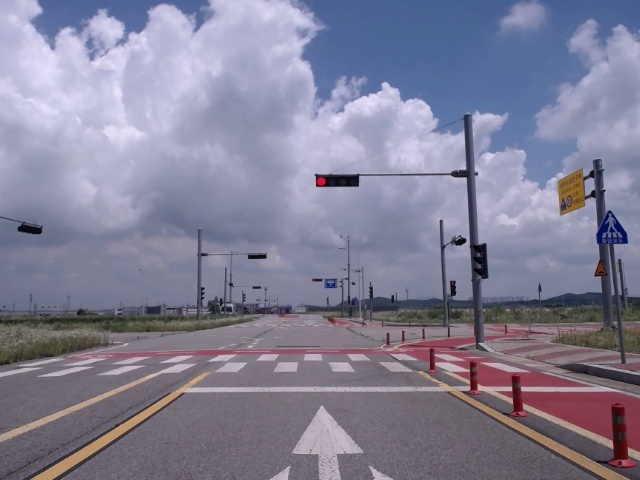red_4: (316, 175, 359, 187)
